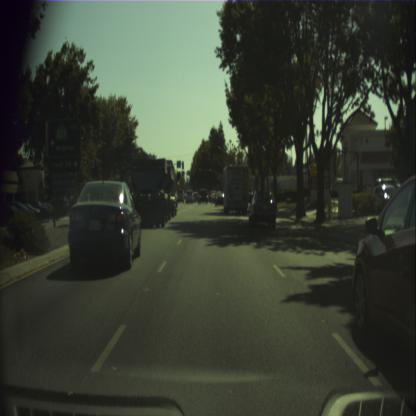Yellow: (198, 167, 200, 171), (209, 167, 211, 171)
